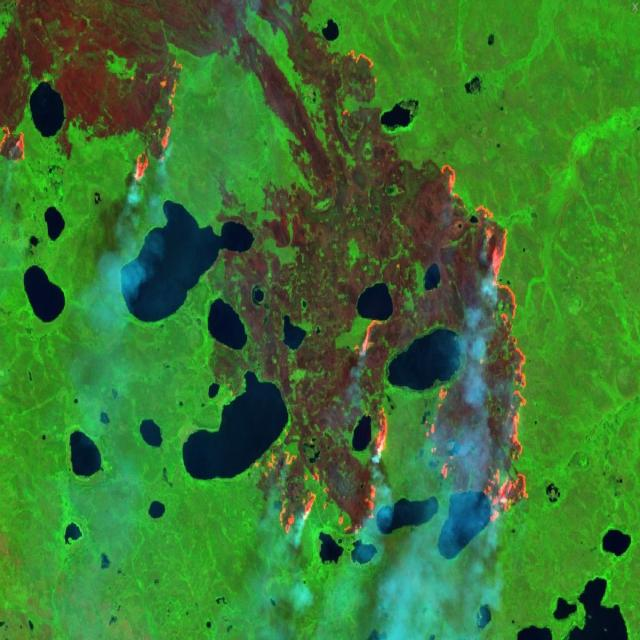fire: (431, 148, 529, 524), (250, 429, 379, 543), (122, 51, 186, 182), (327, 37, 380, 81), (366, 399, 394, 468), (0, 125, 33, 170), (357, 316, 387, 364), (321, 101, 367, 132)
